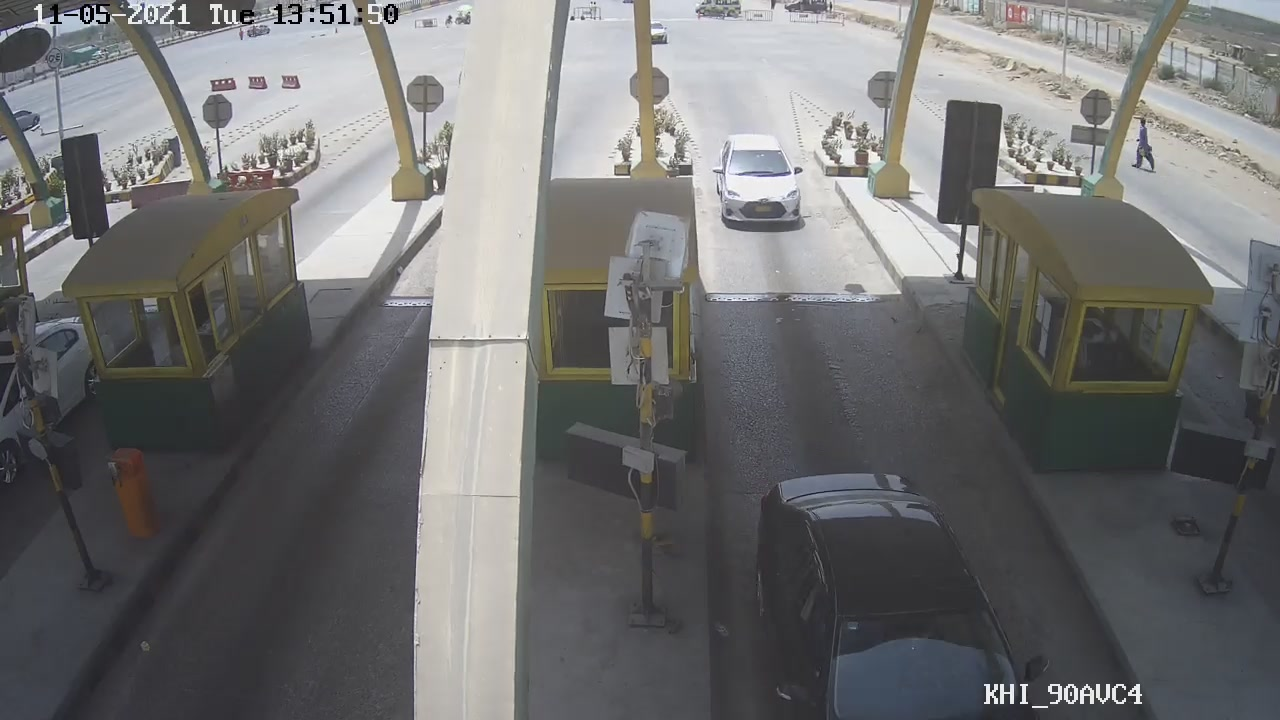F1: (703, 126, 826, 230)
